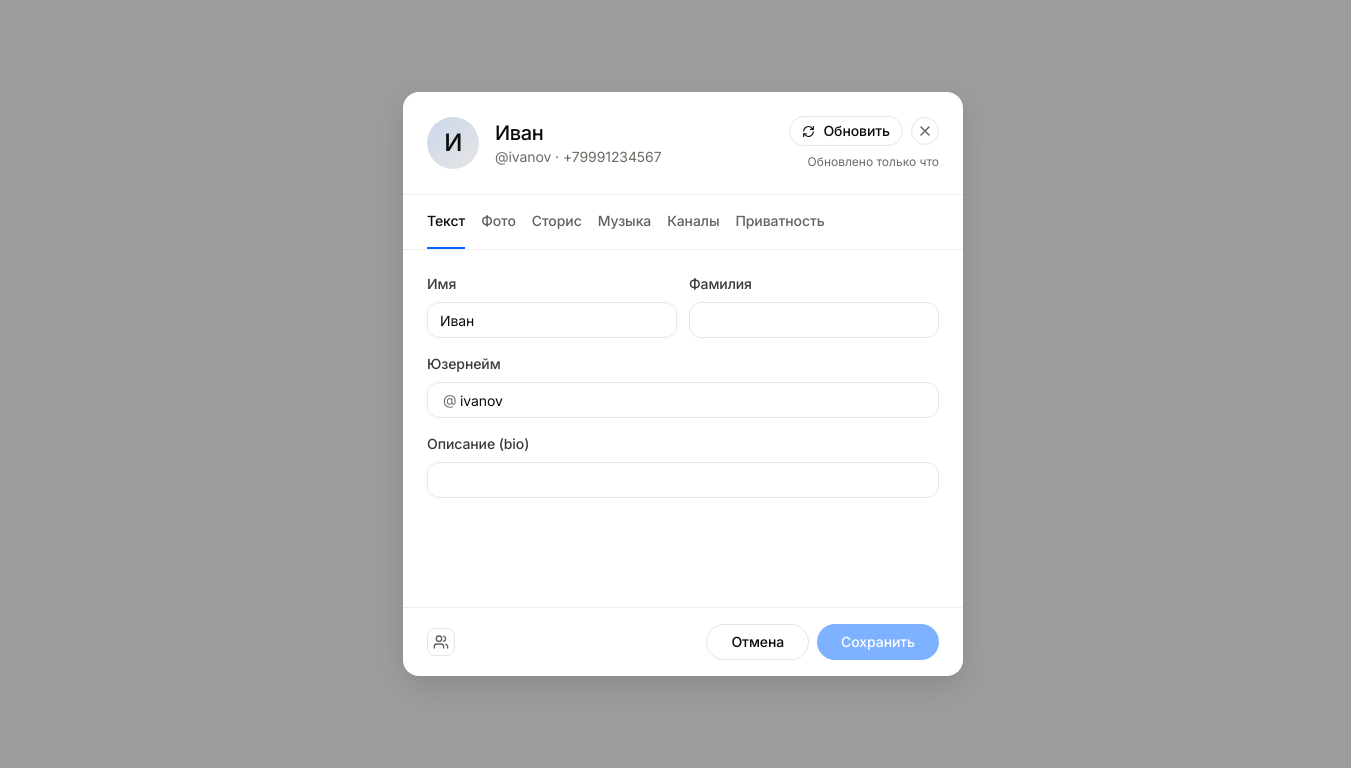
Scenario: the music tab shows an unsupported note when Telegram lacks the TL methods
Click the tab "Музыка": (624, 222) [598,195,651,249]
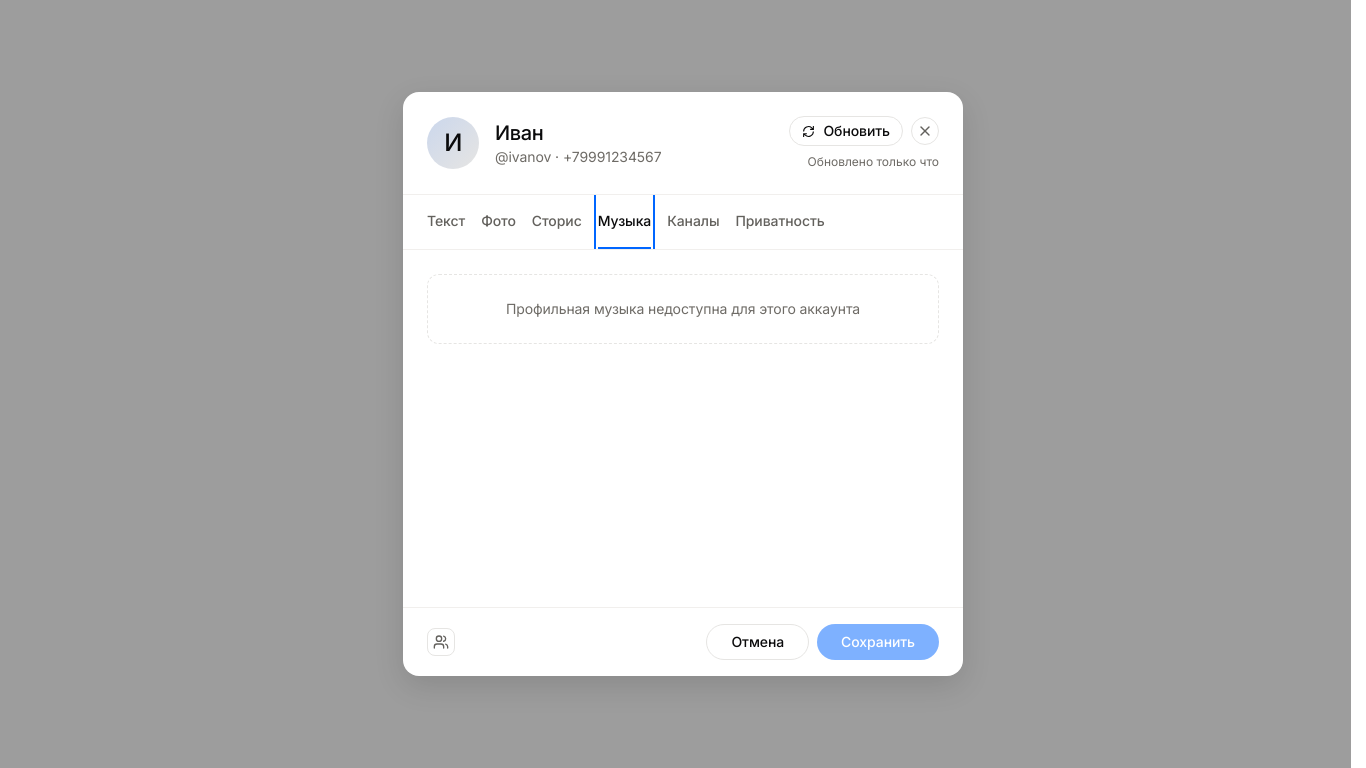
Expected: the text "Профильная музыка недоступна для этого аккаунта" is shown, [427,274,939,344]
